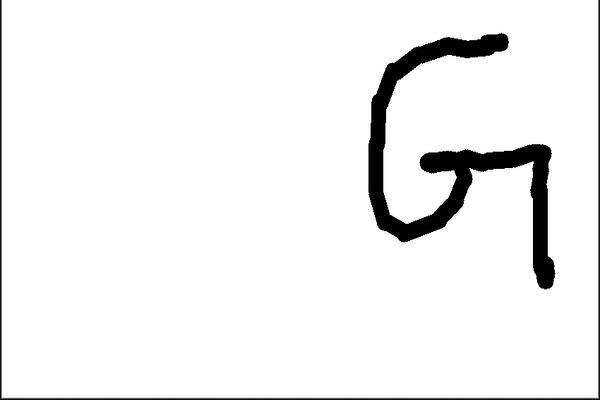G: (363, 31, 561, 294)
